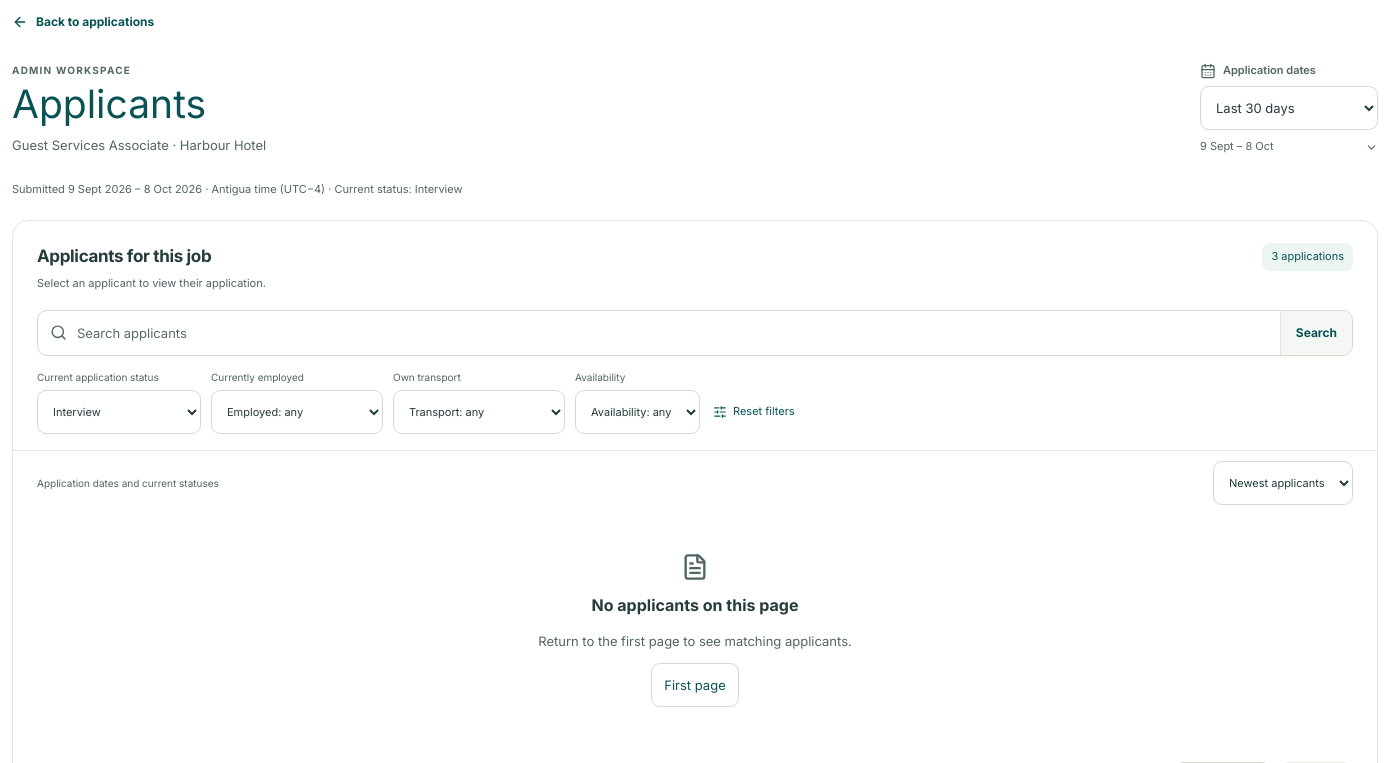
it: Applications workspace private reads › recovers an out-of-range applicants page without losing its filters
The width and height of the screenshot is (1390, 763).
Check: the heading "No applicants on this page" is shown, box left=592, top=593, right=798, bottom=619
What coordinates should you click on to do the following:
click the button "First page"
I would click on:
 (695, 685)
Its box is left=651, top=663, right=739, bottom=707.
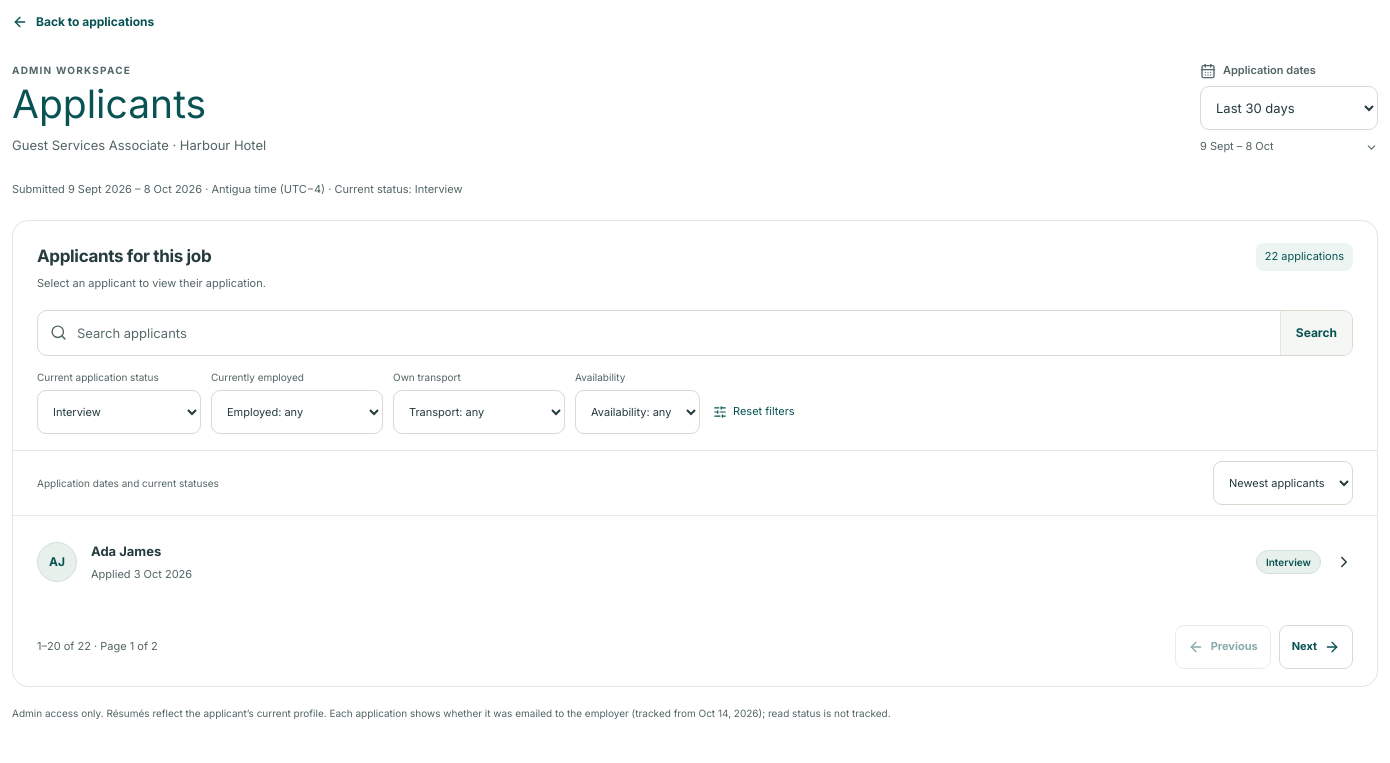
Check: the heading "No applicants on this page" is gone
